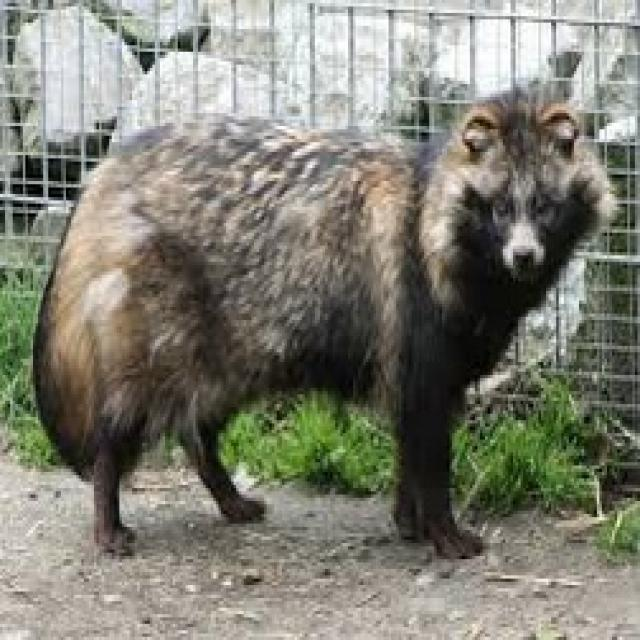racoon: (37, 45, 600, 558)
